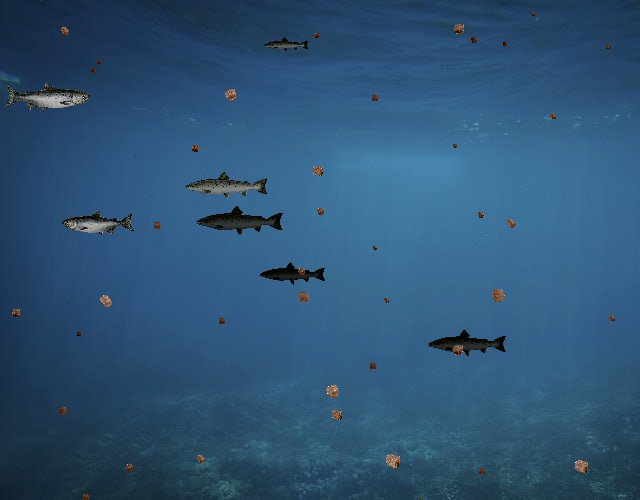Fish: (195, 205, 285, 237), (184, 170, 270, 201), (4, 82, 90, 113), (427, 329, 508, 358), (63, 210, 136, 236), (259, 261, 327, 286), (264, 37, 311, 54)
Pellet: (306, 160, 329, 183), (501, 213, 521, 233), (55, 22, 74, 41), (187, 140, 204, 157), (366, 359, 380, 373), (87, 64, 100, 77), (450, 140, 460, 150)
